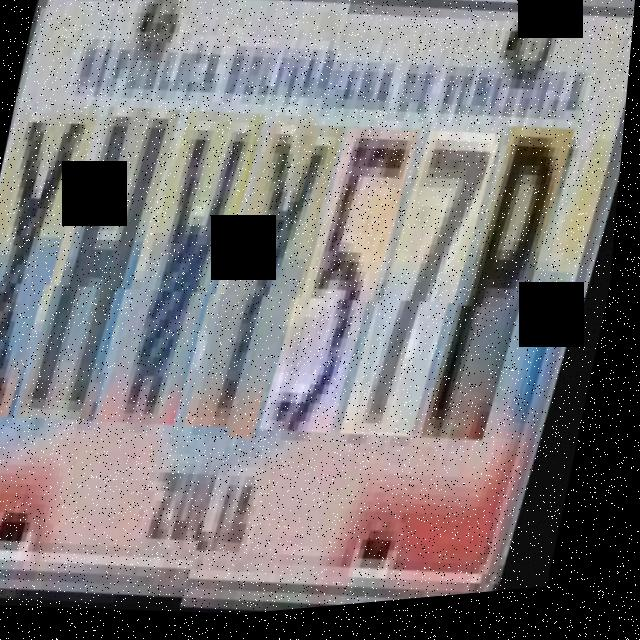5: (279, 126, 427, 446)
7: (359, 131, 507, 451)
H: (33, 111, 183, 439)
P: (440, 129, 581, 455)
W: (114, 116, 269, 445)
X: (0, 105, 102, 432)
Y: (199, 121, 350, 450)
